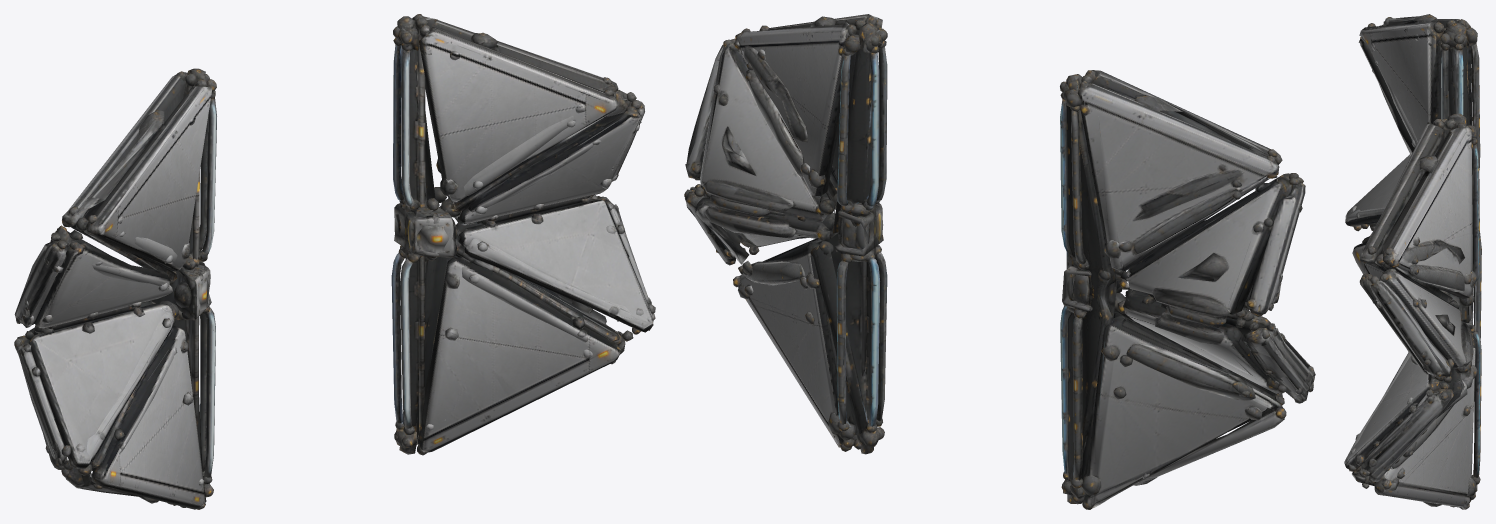
File: lane-gate-generated-07.glb
3 renders of one model, left to right at view 1: azimuth 30°, elevation 25°; view 2: azimuth 150°, elevation 25°; view 3: azimuth 270°, elevation 25°, orthographic. The views are drawn at different scales.
Bounding box in the file's own units: 1 × 0.7018 × 0.2258.
1 material, 1 textured.
